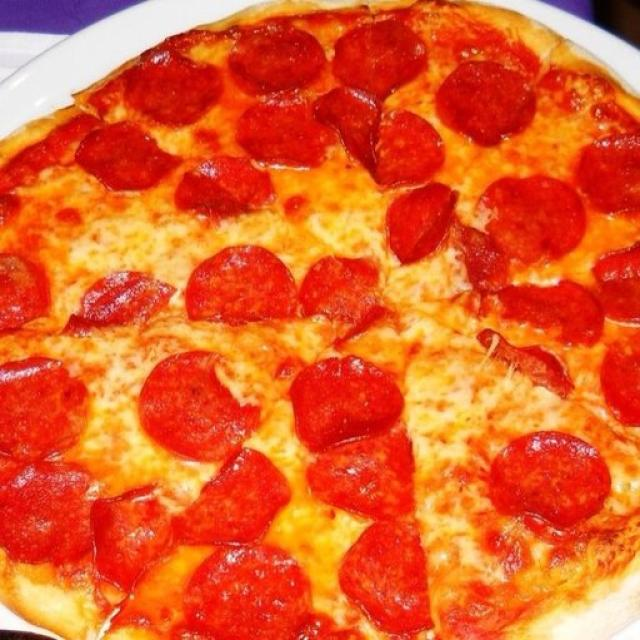Pepperoni: (494, 436, 614, 526), (199, 546, 311, 640), (177, 456, 298, 542), (325, 94, 443, 182), (149, 356, 251, 456), (341, 522, 434, 628), (306, 432, 415, 518), (0, 462, 95, 556), (289, 358, 401, 433), (0, 365, 91, 457), (442, 62, 536, 141), (184, 252, 296, 316), (80, 122, 178, 194), (479, 326, 576, 397), (493, 180, 580, 258), (506, 281, 596, 350), (99, 491, 167, 582), (304, 263, 395, 330), (238, 23, 322, 92), (138, 54, 222, 120), (342, 22, 425, 88), (238, 104, 334, 160), (581, 140, 640, 228), (398, 188, 461, 264), (80, 278, 172, 323), (0, 252, 55, 323), (179, 165, 267, 208), (600, 248, 640, 323), (604, 342, 638, 424), (467, 227, 501, 291)
Pizza: (0, 0, 640, 640)
